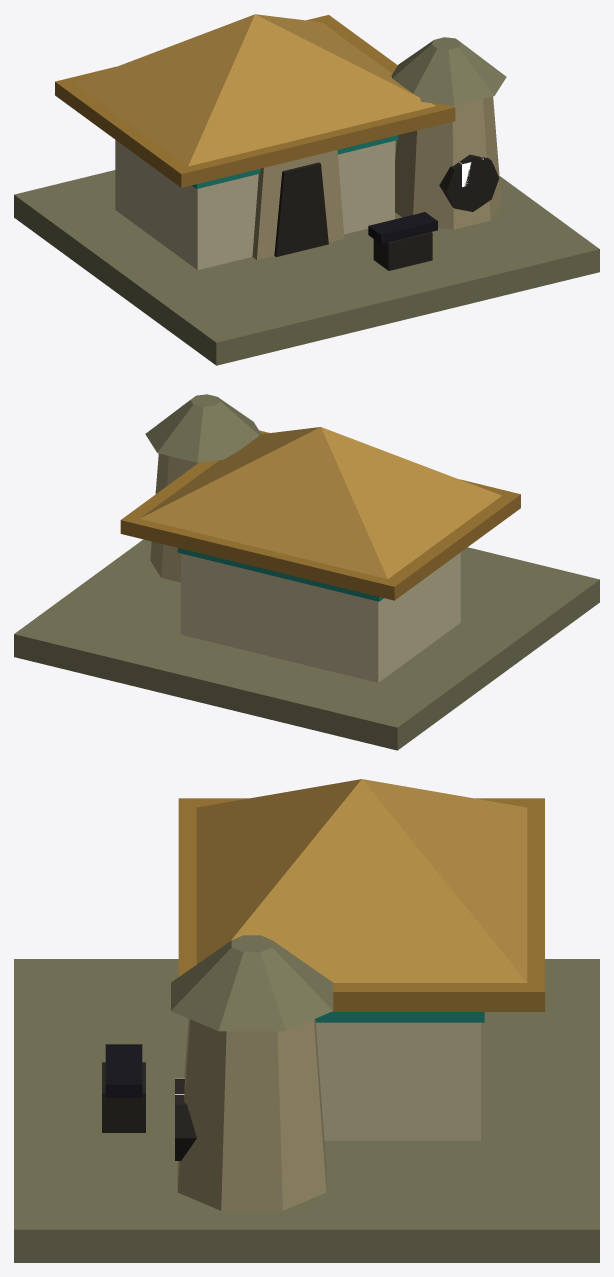
File: workshop_t1.glb
3 views of the same model, one above another, from view 1: azimuth 30°, elevation 25°; view 2: azimuth 150°, elevation 25°; view 3: azimuth 270°, elevation 25° (orthographic). The views are drawn at different scales.
Visible parts, largest first — view 1: body; view 2: body; view 3: body.
Part boxes in pixels (<box>): body: <box>14,14,599,365</box>; body: <box>14,394,599,750</box>; body: <box>14,779,599,1262</box>.
Bounding box in the file's own units: 1.75 × 0.98 × 1.6.
